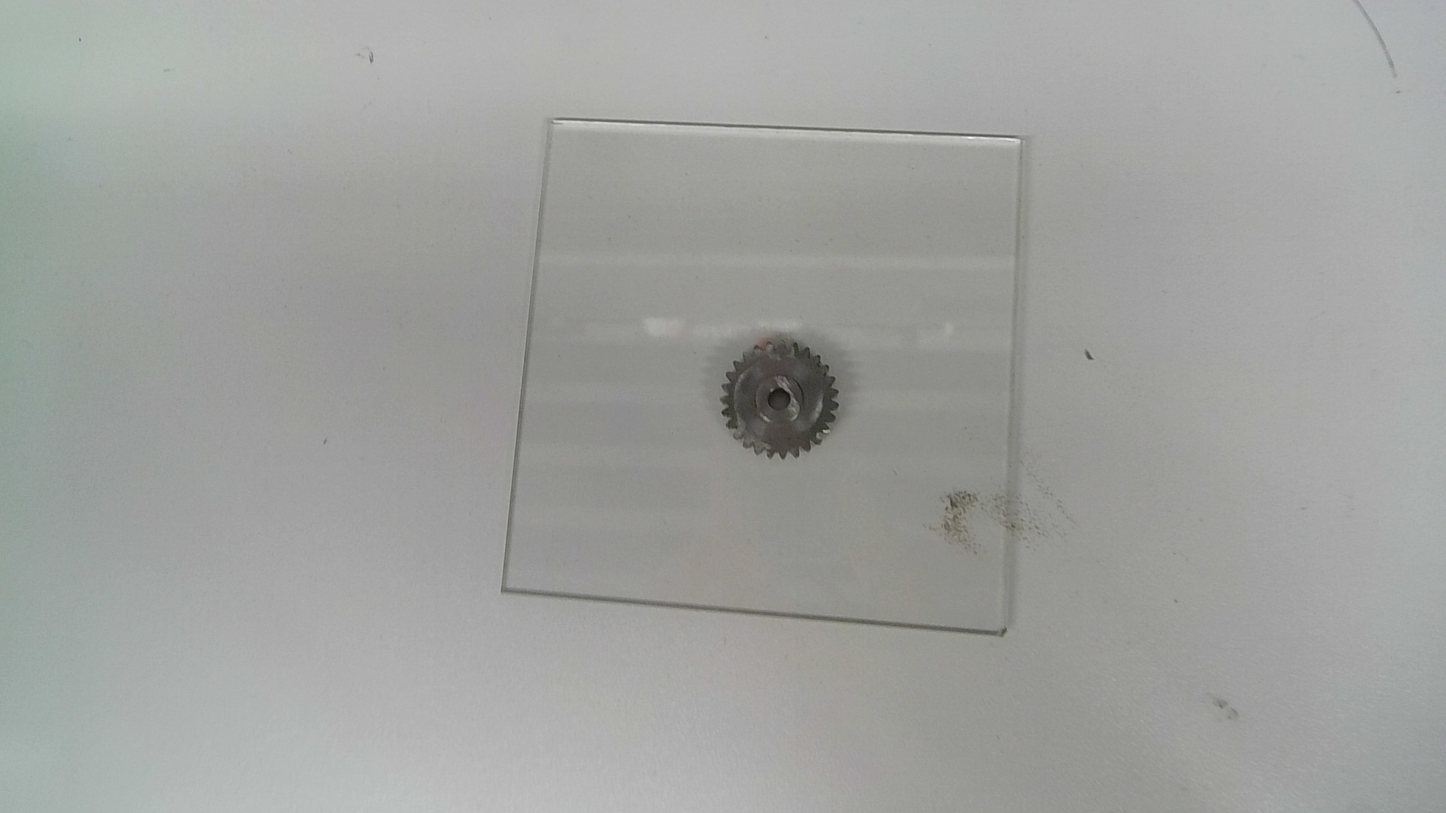gear: (718, 339, 841, 465)
